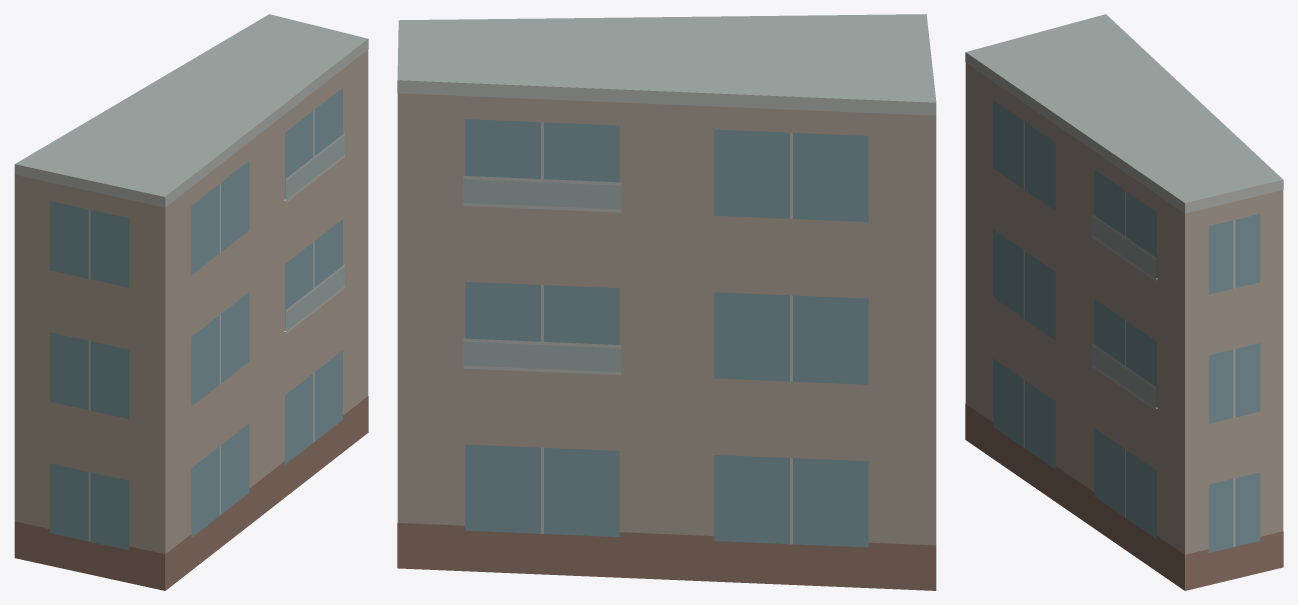
The model's file is survey-upis-32898938.glb.
3 renders of one model, left to right at view 1: azimuth 30°, elevation 25°; view 2: azimuth 150°, elevation 25°; view 3: azimuth 270°, elevation 25°, orthographic. The views are drawn at different scales.
Visible parts, largest first — view 1: survey-upis-32898938.tmp; view 2: survey-upis-32898938.tmp; view 3: survey-upis-32898938.tmp.
Part boxes in pixels (box(x1,y1,x2,y2)): survey-upis-32898938.tmp: box(14, 14, 368, 590); survey-upis-32898938.tmp: box(397, 14, 936, 590); survey-upis-32898938.tmp: box(965, 14, 1283, 590).
Bounding box in the file's own units: 9.58 × 9.15 × 6.81.
